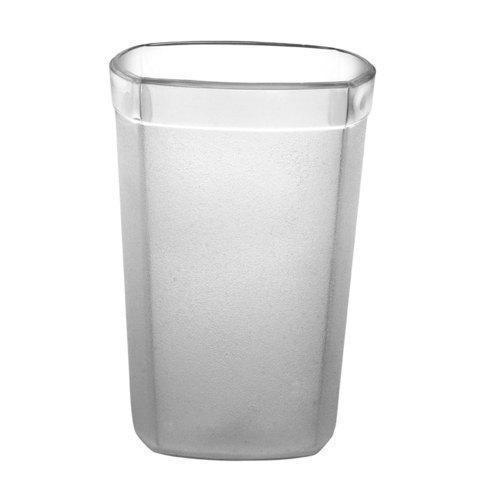glass-normal: (105, 35, 380, 464)
